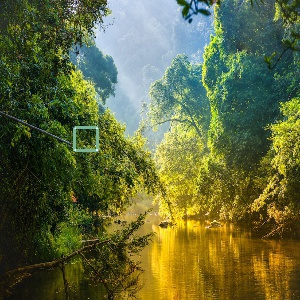square: (70, 124, 101, 154)
